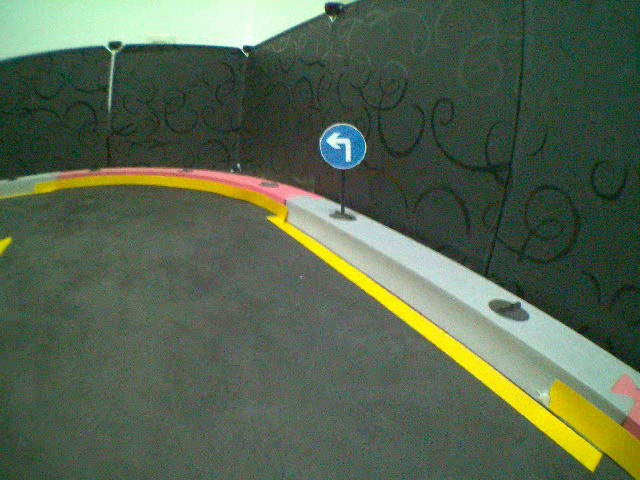turn: (318, 121, 368, 171)
